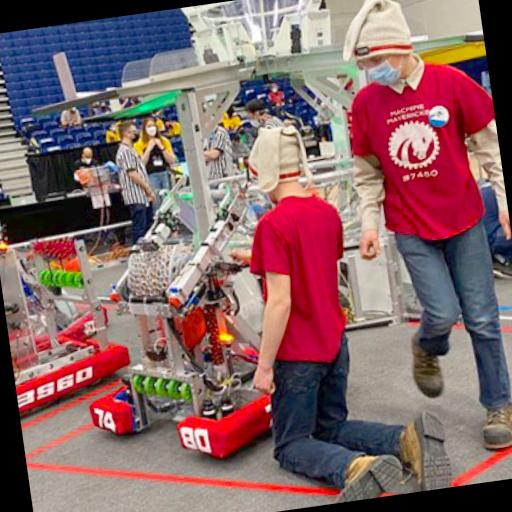robot: (57, 160, 322, 470), (0, 226, 135, 413)
